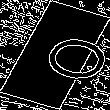O_W: (12, 25, 98, 85)
